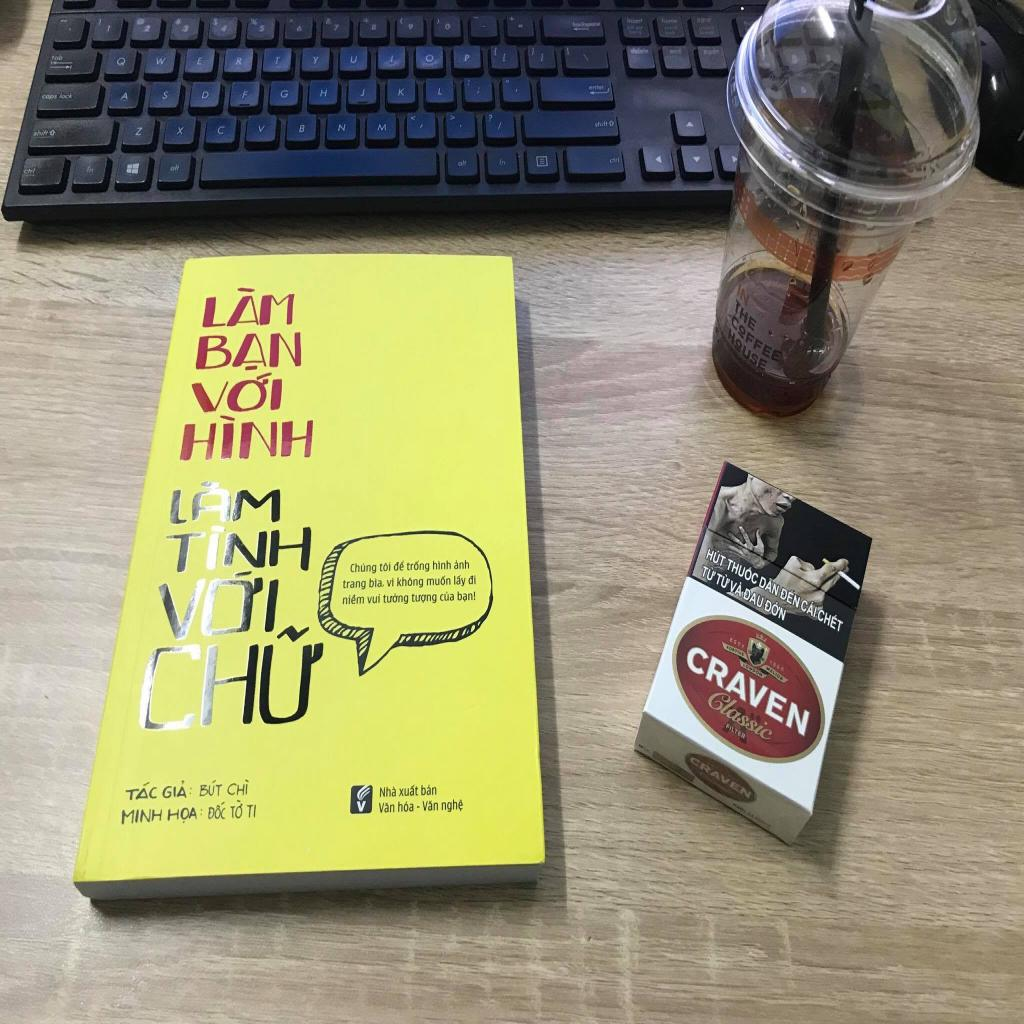text: (132, 617, 328, 739), (682, 639, 812, 739), (153, 568, 283, 641), (162, 522, 316, 575), (178, 411, 318, 463), (167, 479, 285, 530), (193, 327, 305, 375), (186, 368, 286, 416), (200, 282, 298, 328), (704, 686, 778, 745), (727, 312, 785, 370), (688, 752, 754, 802), (725, 325, 769, 377), (725, 554, 761, 588), (732, 297, 758, 335), (160, 776, 196, 802), (816, 604, 846, 635), (165, 804, 205, 827), (120, 807, 164, 827), (125, 780, 159, 804), (762, 596, 789, 623), (778, 582, 802, 610), (740, 585, 766, 610), (758, 573, 782, 599), (704, 545, 728, 570), (198, 778, 224, 800), (206, 799, 228, 823), (724, 720, 748, 742), (226, 777, 252, 797), (799, 596, 819, 621), (735, 280, 751, 309), (699, 561, 719, 584), (741, 661, 765, 680), (396, 575, 424, 590), (440, 797, 464, 814), (350, 561, 378, 575), (410, 591, 438, 605), (714, 570, 732, 591), (426, 574, 452, 588), (382, 592, 410, 605), (230, 798, 245, 822), (765, 664, 785, 682), (398, 782, 419, 799), (406, 560, 431, 574), (342, 578, 367, 592), (420, 781, 439, 799), (729, 578, 745, 599), (456, 589, 478, 604), (725, 644, 745, 660), (342, 593, 366, 606), (378, 785, 398, 800), (378, 798, 396, 814), (397, 798, 415, 814), (728, 636, 746, 652), (571, 20, 603, 29), (432, 558, 452, 572), (421, 799, 439, 813), (453, 557, 471, 571), (368, 576, 386, 590), (768, 659, 786, 673), (245, 802, 258, 821), (439, 590, 456, 604), (453, 573, 467, 588), (365, 592, 381, 605), (356, 799, 368, 814), (41, 92, 59, 102), (57, 91, 75, 101), (32, 128, 50, 138), (118, 89, 130, 104), (594, 119, 610, 130), (393, 560, 405, 574), (588, 83, 606, 92), (50, 53, 66, 63), (22, 166, 38, 176), (379, 561, 392, 573), (116, 55, 128, 68), (336, 121, 348, 134), (376, 121, 388, 134), (135, 18, 147, 30), (248, 16, 260, 28), (173, 16, 184, 29), (179, 23, 191, 34), (457, 157, 468, 169), (134, 126, 145, 138), (467, 574, 477, 587), (257, 22, 267, 35), (396, 86, 406, 99), (386, 574, 395, 588), (85, 163, 95, 175), (169, 163, 181, 173), (143, 24, 153, 36), (608, 156, 620, 166), (176, 125, 186, 137), (156, 57, 168, 67), (201, 89, 211, 101), (234, 56, 244, 68), (240, 88, 250, 100), (258, 123, 268, 135), (350, 54, 360, 66), (331, 22, 341, 33), (195, 56, 205, 67), (280, 89, 290, 100), (388, 53, 396, 66), (464, 53, 472, 66), (443, 22, 453, 32), (217, 125, 227, 135), (273, 56, 283, 66), (582, 53, 592, 63), (425, 54, 435, 64), (362, 15, 371, 26), (161, 88, 169, 100), (320, 87, 328, 99), (298, 123, 306, 135), (359, 88, 367, 100), (501, 51, 508, 64), (220, 23, 228, 34), (296, 23, 304, 34), (499, 157, 507, 168), (313, 55, 321, 66), (487, 113, 495, 124), (437, 86, 444, 98), (212, 17, 220, 27), (370, 22, 378, 32), (407, 22, 415, 32), (496, 121, 504, 131), (492, 46, 498, 59), (97, 17, 103, 29), (326, 17, 334, 26), (530, 46, 536, 58), (59, 18, 69, 25), (106, 24, 112, 35), (565, 47, 571, 58), (539, 53, 545, 64), (448, 114, 456, 122), (399, 16, 405, 26), (418, 121, 424, 131), (476, 86, 482, 96), (508, 14, 515, 22), (410, 115, 418, 122), (435, 17, 441, 26), (288, 18, 295, 25), (68, 26, 74, 34), (472, 15, 480, 21), (516, 24, 524, 30), (466, 79, 472, 87), (514, 87, 520, 93), (481, 24, 487, 29), (505, 79, 511, 84), (459, 124, 463, 130)
